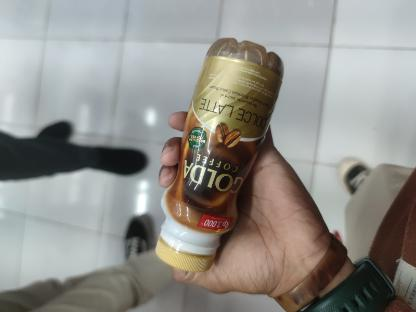Plastic Bottle: (156, 37, 284, 273)
